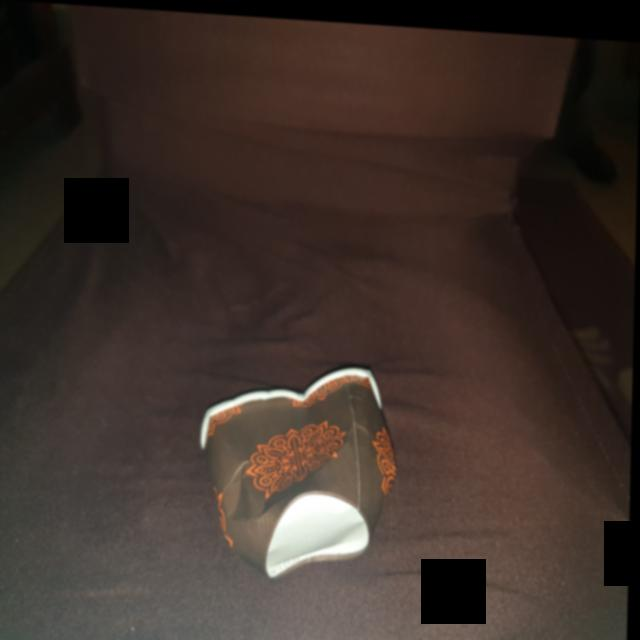cups: (197, 349, 407, 584)
